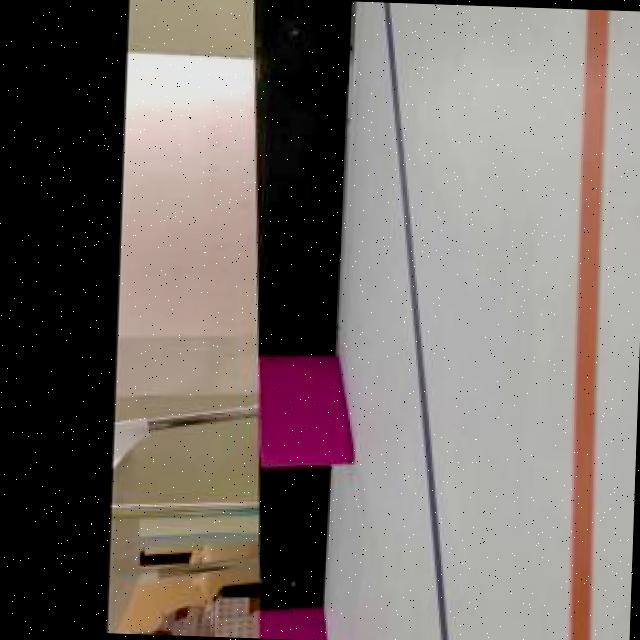xparking: (258, 360, 348, 462), (262, 612, 319, 640)
